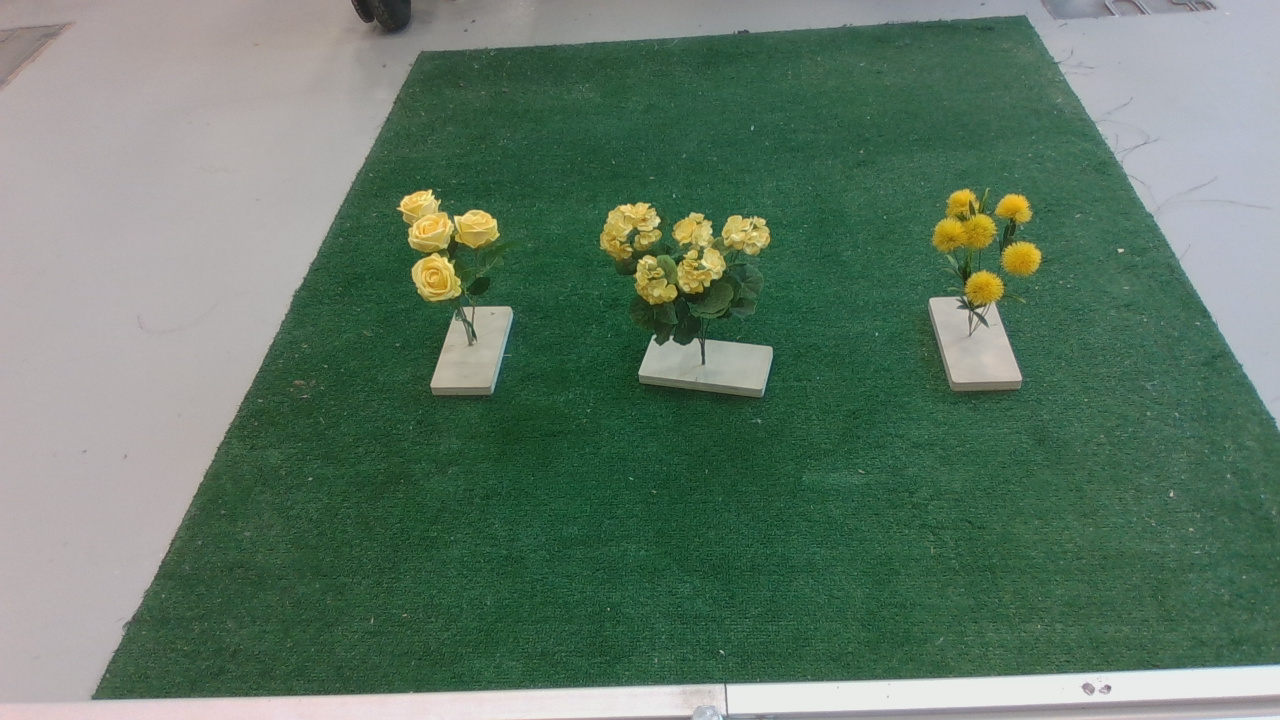dandelion: (927, 183, 1058, 323)
geranium: (593, 196, 783, 353)
rose: (397, 180, 524, 335)
